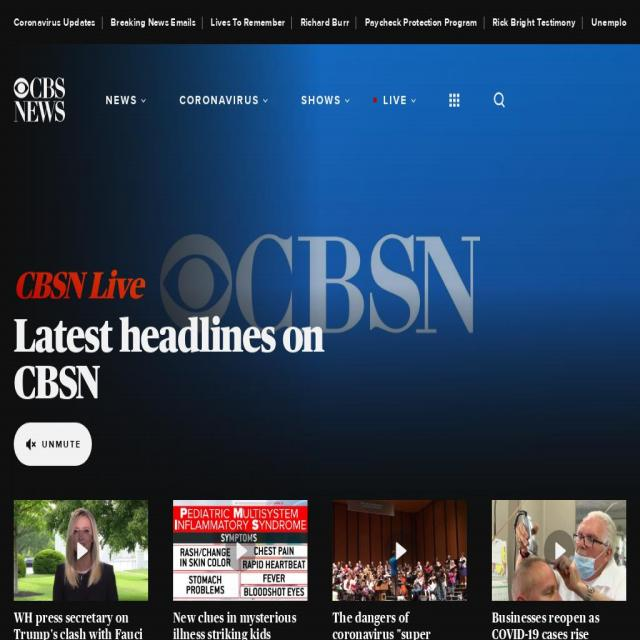navigation-blocks: (7, 485, 640, 640)
navigation-links: (4, 3, 628, 124)
options: (440, 85, 471, 118)
search: (488, 83, 512, 115)
video: (5, 478, 640, 640)
